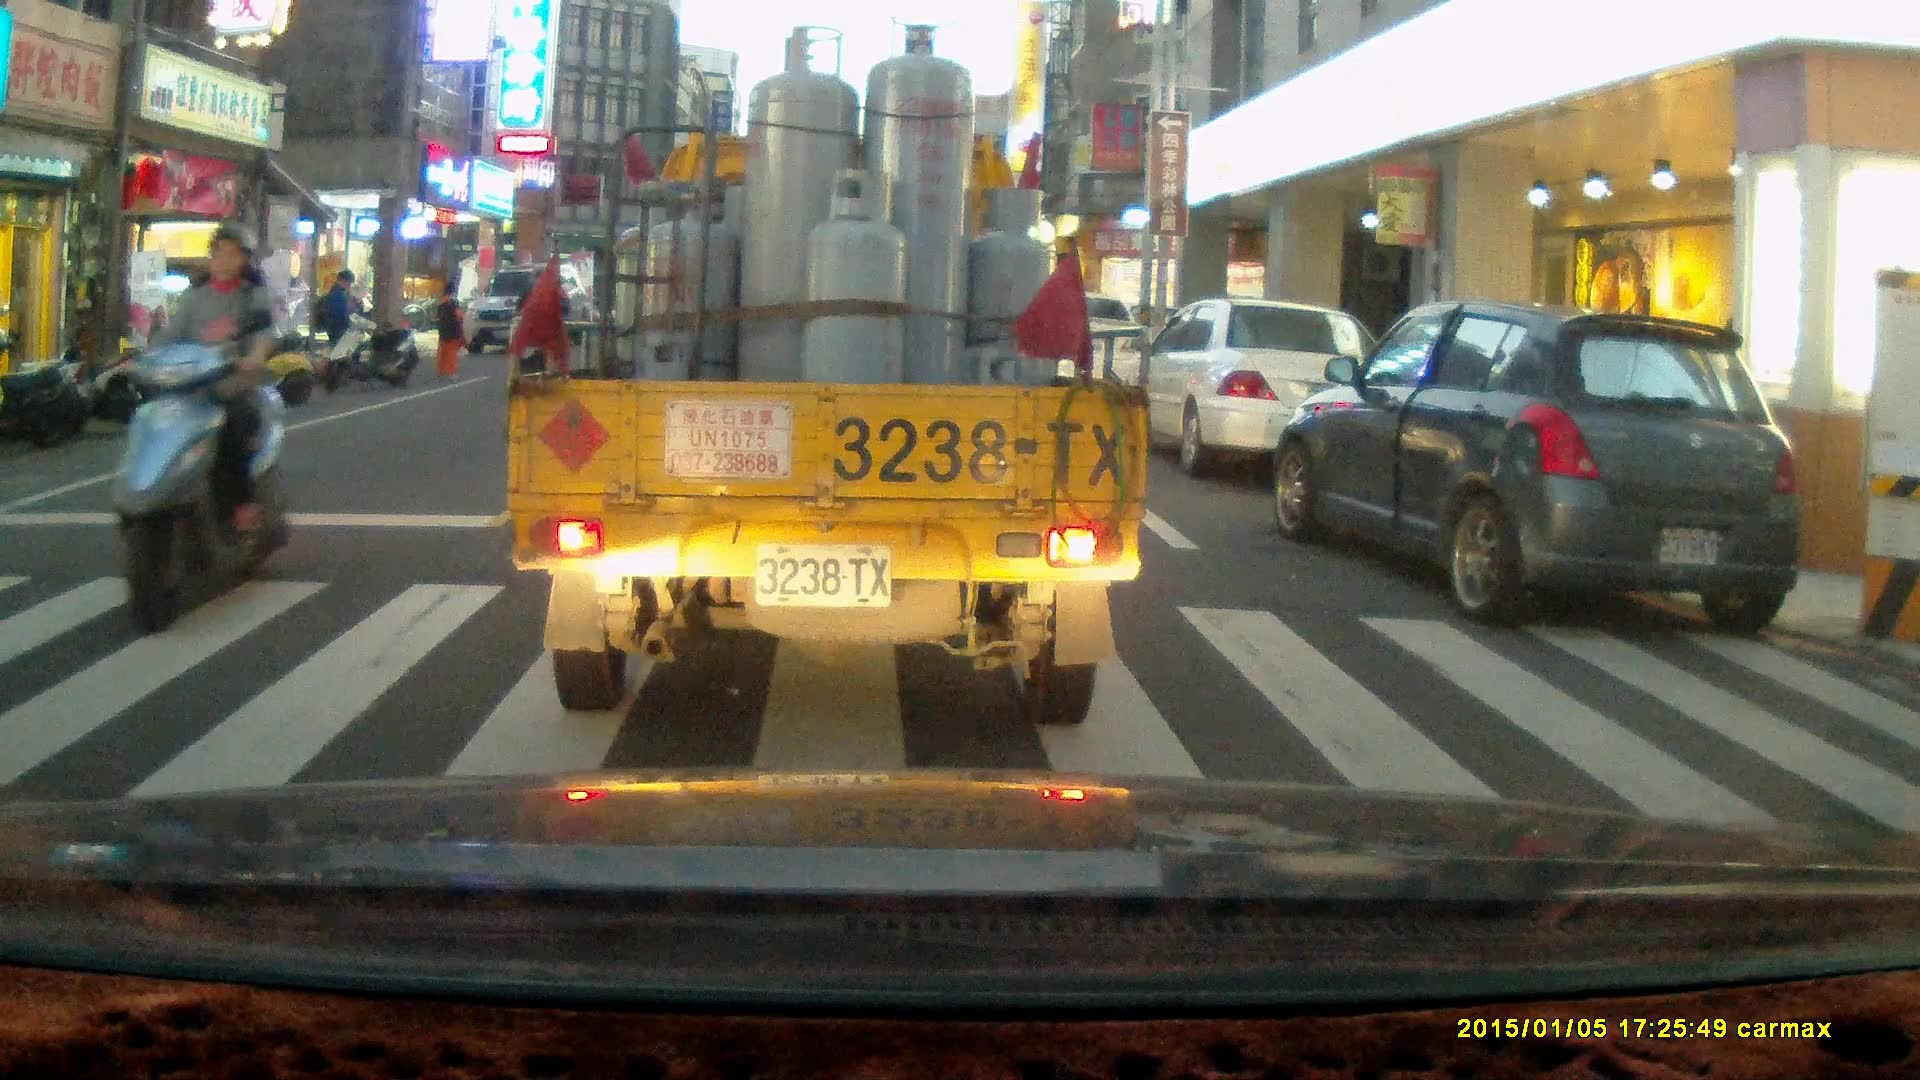pedestrian: (321, 267, 357, 381), (431, 277, 471, 375)
rider: (108, 217, 293, 639)
vehicle: (518, 62, 1136, 720), (1276, 304, 1812, 636), (1136, 300, 1376, 481), (1026, 295, 1160, 413), (463, 269, 584, 362)
